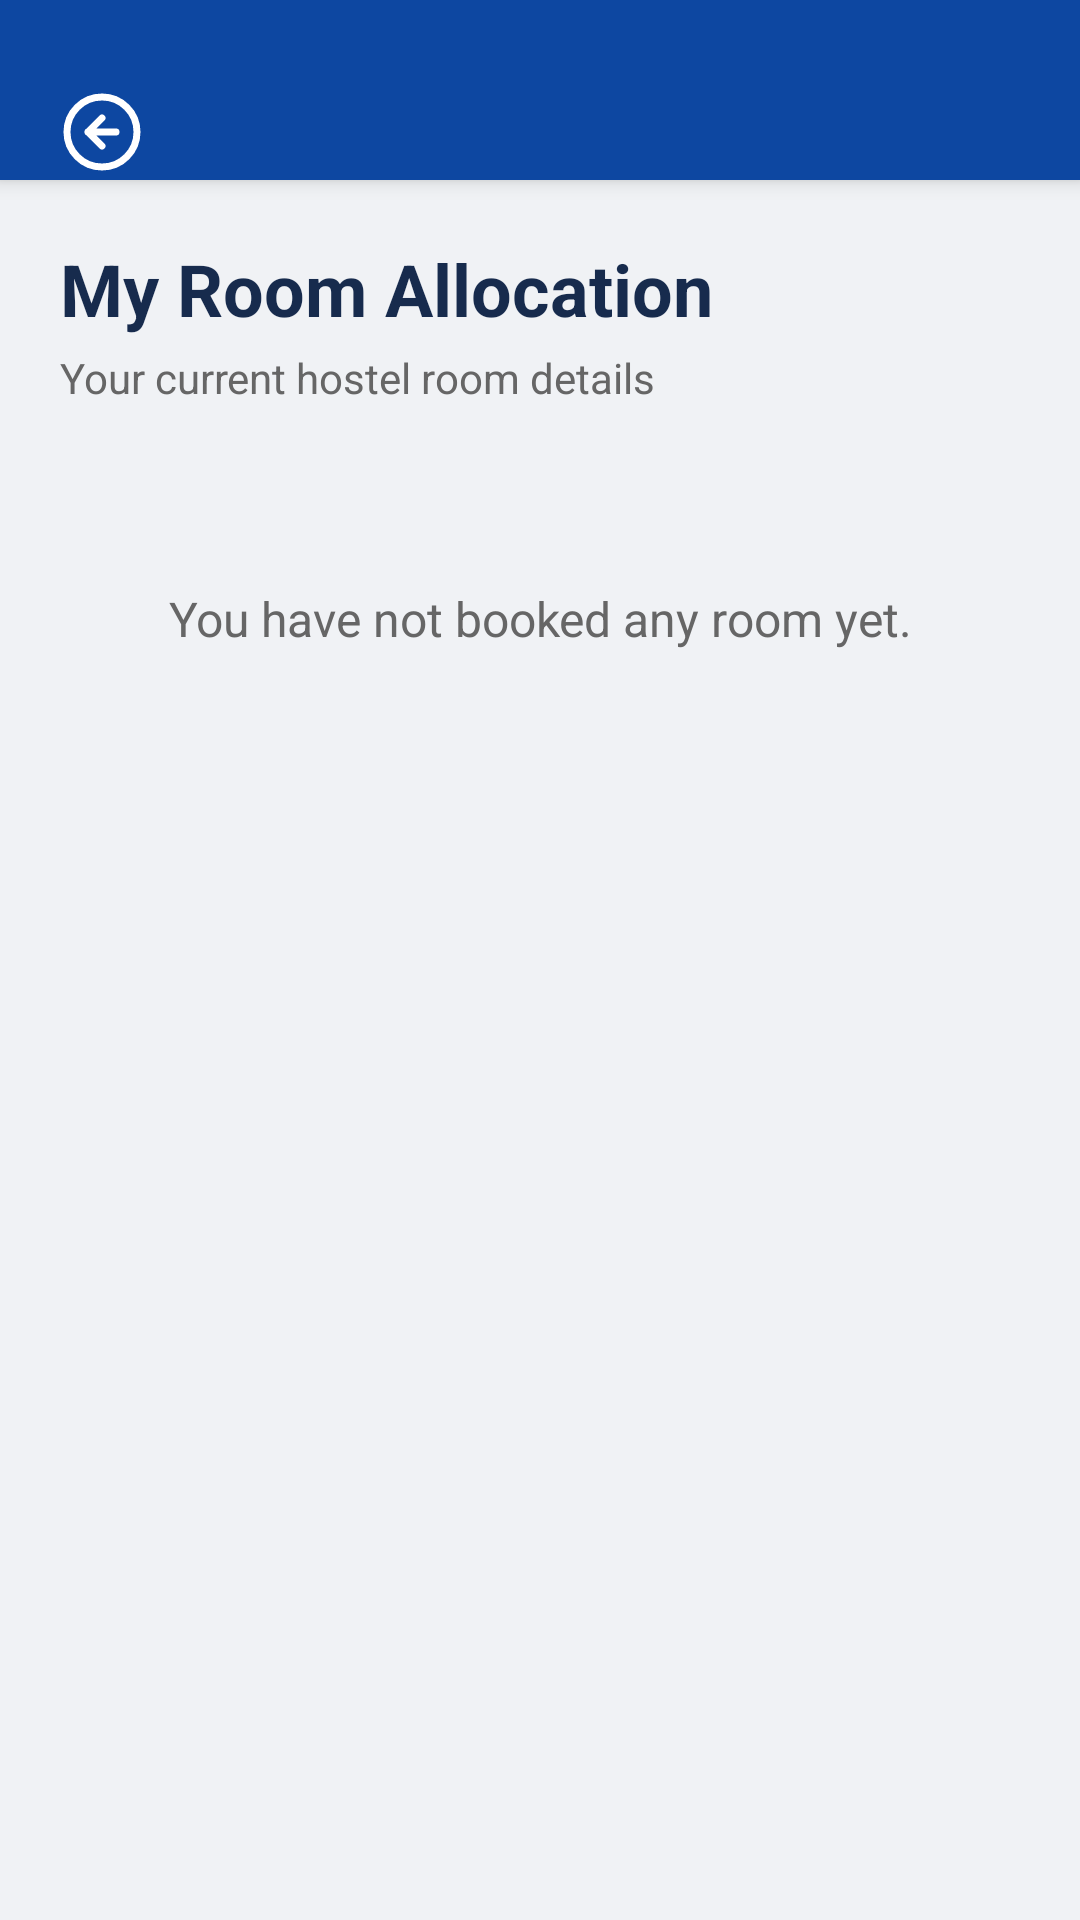

Locate icon controls on the screen. Image size 1080w x 1920h, boxes as (x1, y1, x2, y2).
Back: (63, 93, 141, 171)
